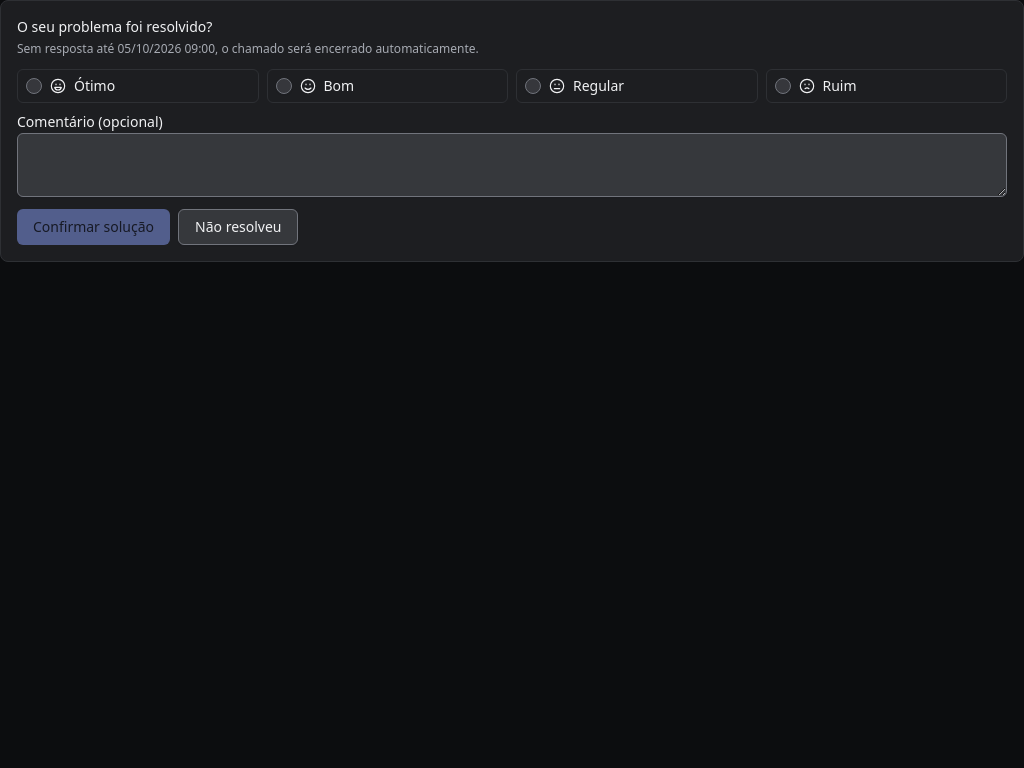
it: ValidacaoCard › 400 com detalhes aparece no campo do comentário
Click the radio button named "Bom" next to "Bom": (284, 86) [276, 78, 292, 94]
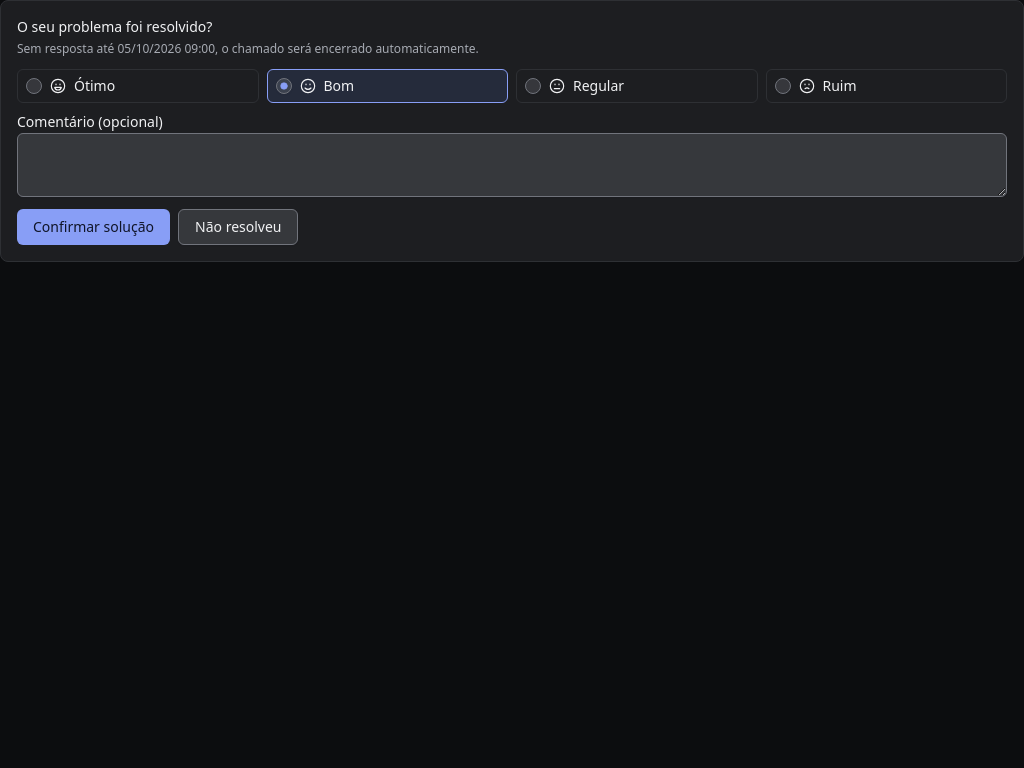
Click the button "Confirmar solução": (94, 227) [17, 209, 170, 245]
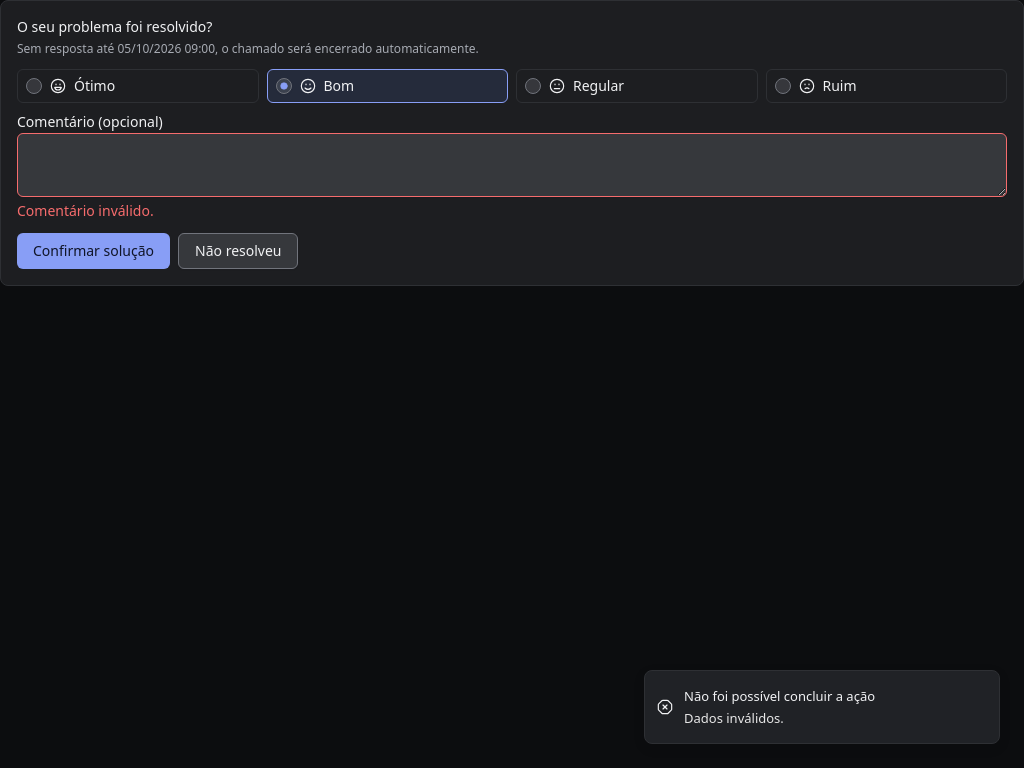
Check: the text "Comentário inválido." is shown, box [17, 201, 154, 220]
